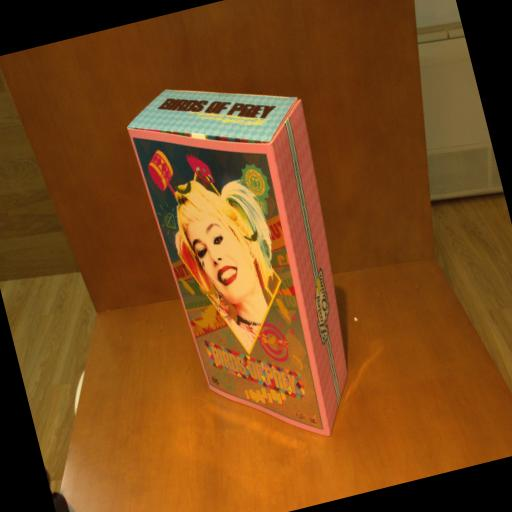Harley: (121, 56, 383, 466)
